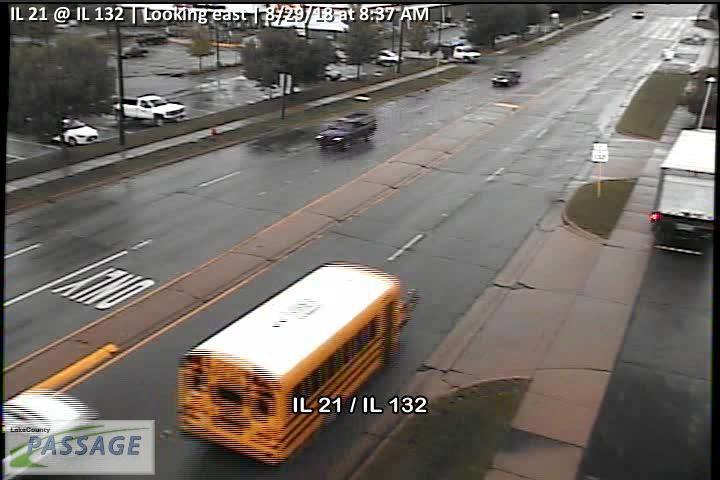Bus: (176, 259, 420, 467)
Sedan: (316, 112, 378, 150), (50, 118, 101, 145), (492, 68, 522, 86)
Truck: (114, 94, 188, 126), (429, 40, 481, 62)
